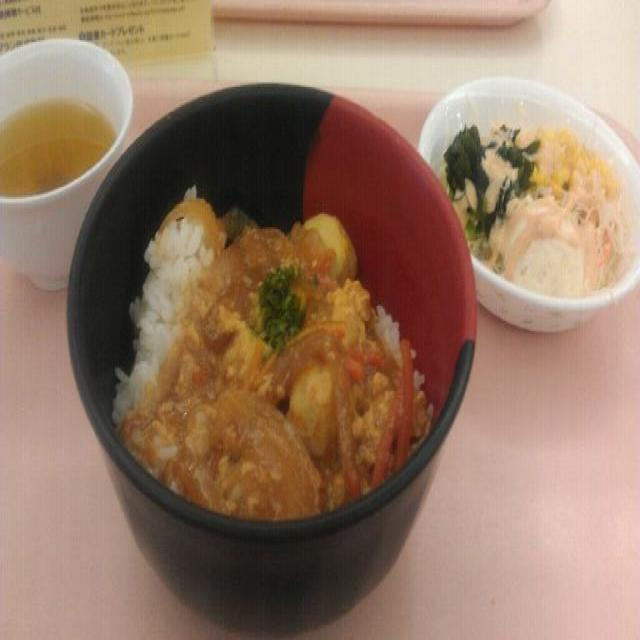米饭主食: (98, 85, 472, 545)
